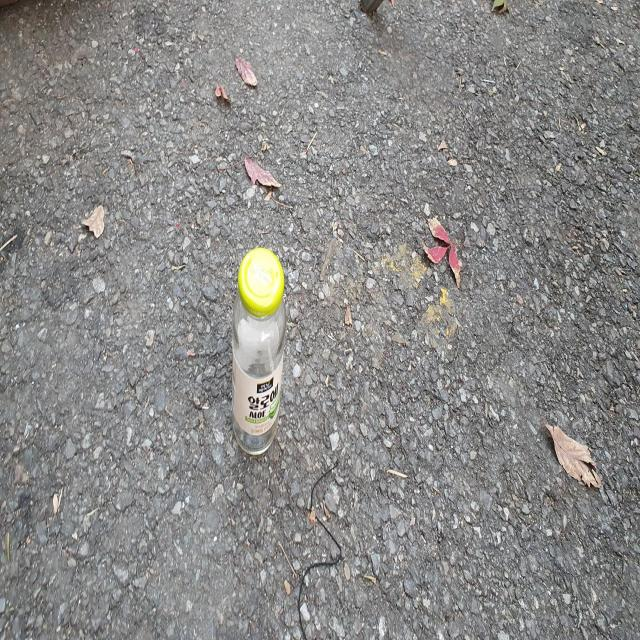glass: (232, 248, 286, 455)
